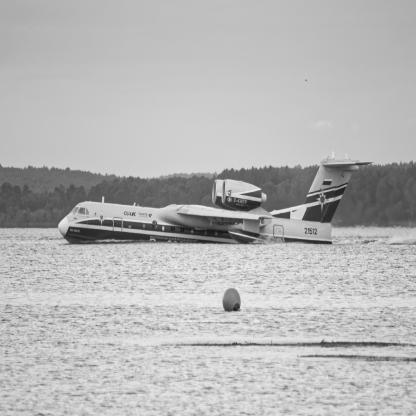Be200: (59, 152, 376, 245)
